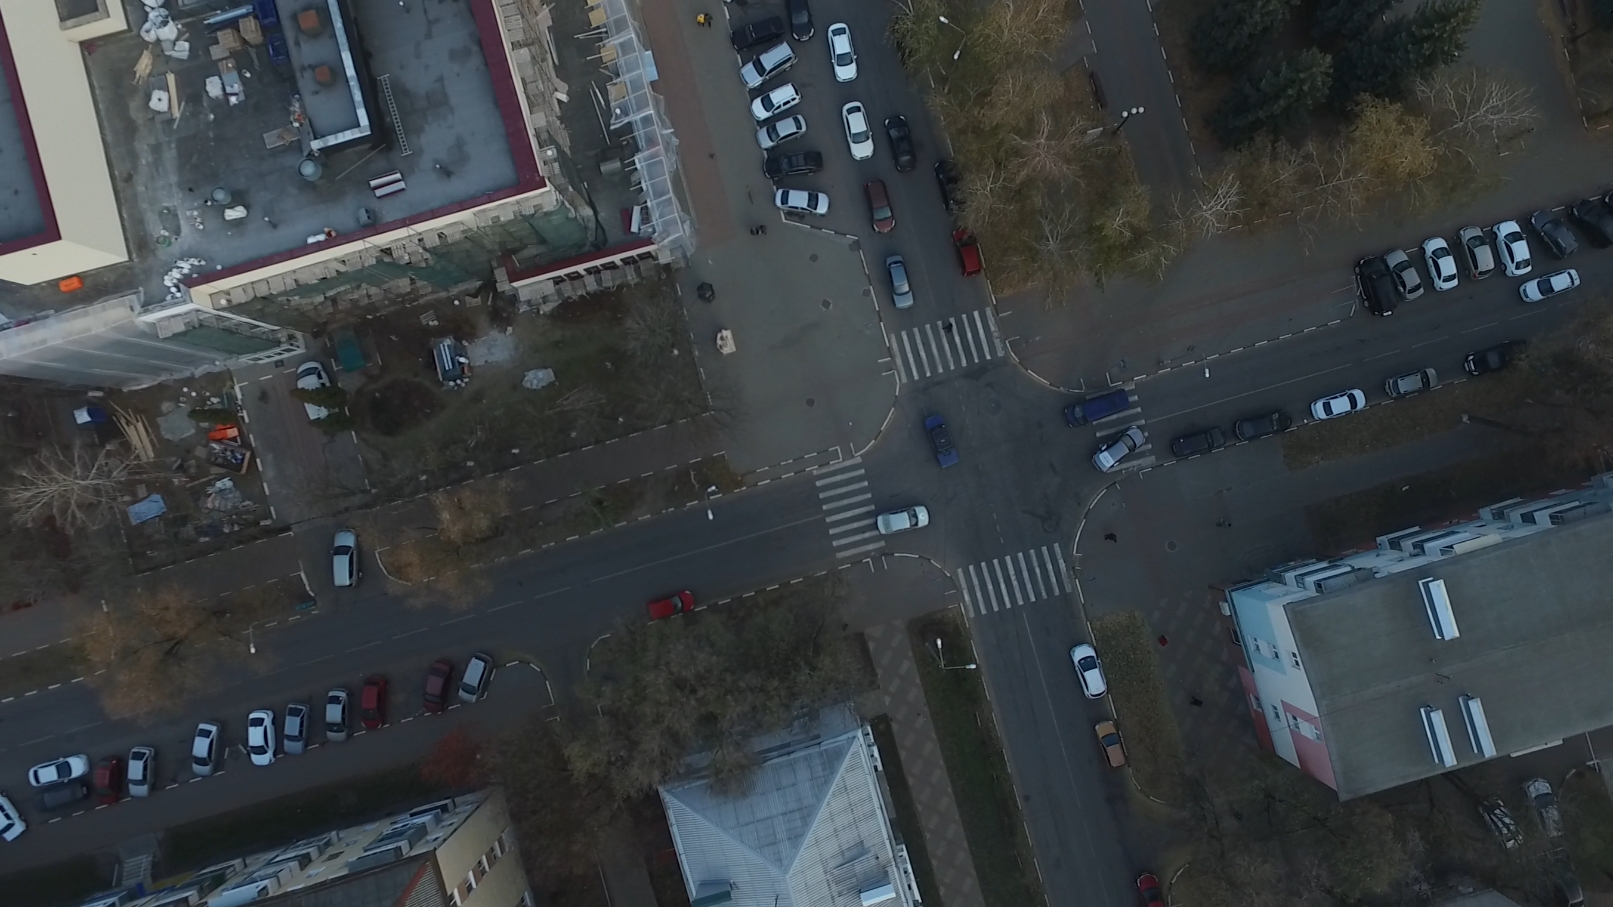car: (1518, 777, 1566, 848), (740, 39, 799, 90), (1353, 256, 1398, 319), (1093, 423, 1149, 474), (1477, 795, 1524, 851), (1530, 209, 1579, 262), (1064, 388, 1131, 425), (238, 701, 277, 766), (1068, 638, 1108, 701), (323, 528, 362, 591), (1465, 339, 1533, 374), (1457, 224, 1498, 282), (774, 181, 831, 221), (451, 650, 493, 703), (1522, 267, 1583, 303), (25, 751, 89, 785), (417, 655, 455, 710), (769, 146, 831, 181), (932, 159, 970, 214), (1572, 195, 1611, 249), (1386, 247, 1424, 302), (925, 414, 964, 467), (842, 102, 876, 162), (1424, 234, 1459, 291), (120, 748, 158, 800), (828, 20, 860, 82), (1309, 388, 1369, 421), (188, 721, 225, 775), (1497, 219, 1531, 277), (277, 703, 314, 755), (355, 677, 389, 732), (748, 85, 802, 120), (82, 753, 119, 804), (884, 118, 917, 174), (865, 181, 897, 237), (952, 225, 985, 279), (757, 116, 812, 148), (876, 502, 929, 535), (321, 688, 352, 743), (1236, 411, 1292, 442), (886, 252, 916, 309), (1171, 426, 1226, 456), (1383, 368, 1438, 396), (643, 588, 696, 618), (732, 17, 785, 47), (1131, 868, 1171, 907), (1095, 718, 1124, 767), (785, 1, 814, 40)
